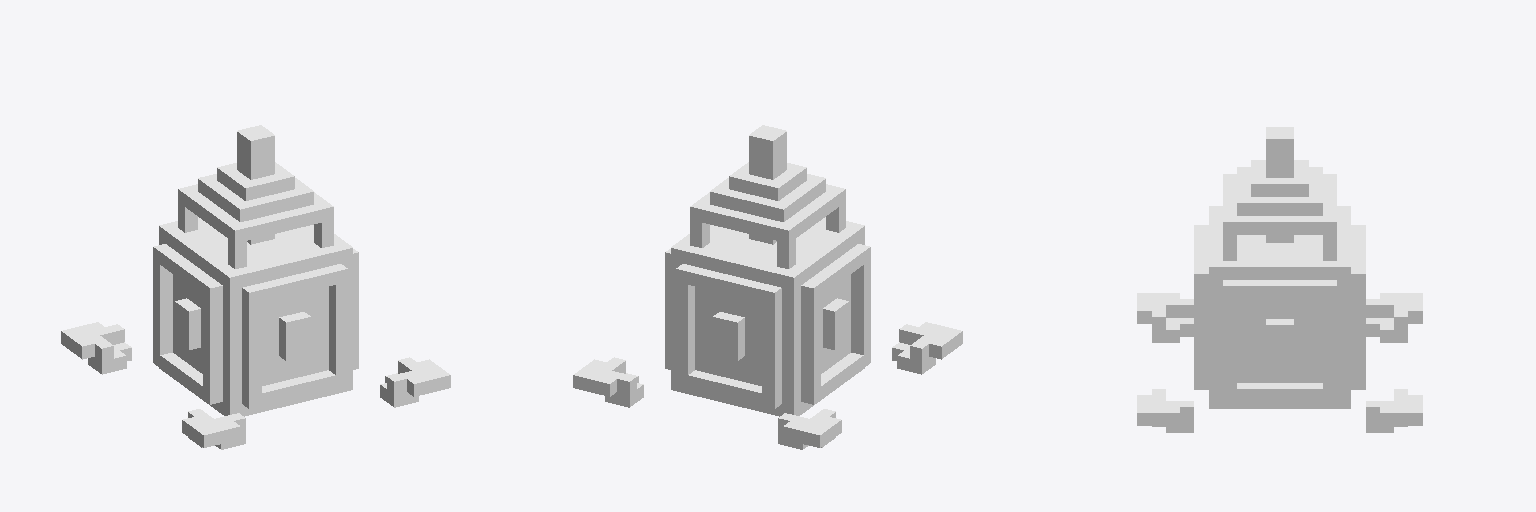
Rendered from tower3_top.obj.
3 views of the same model, side by side, from view 1: azimuth 30°, elevation 25°; view 2: azimuth 150°, elevation 25°; view 3: azimuth 270°, elevation 25° (orthographic).
Visible parts, largest first — view 1: object 1; view 2: object 1; view 3: object 1.
Boxes of the visible parts, x1,y1,x2,y2 form: object 1: [61, 125, 450, 449]; object 1: [573, 125, 962, 449]; object 1: [1137, 127, 1422, 432].
Size of the model in its own units: 2 by 1.9 by 2.